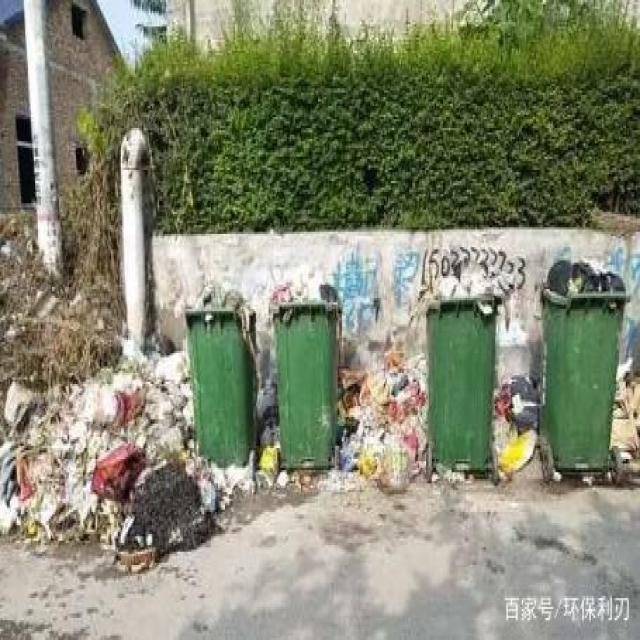garbage: (0, 349, 214, 567), (338, 351, 426, 488), (492, 375, 539, 470)
overflow: (540, 258, 626, 468), (425, 260, 498, 474), (269, 274, 339, 470), (184, 283, 255, 462)
